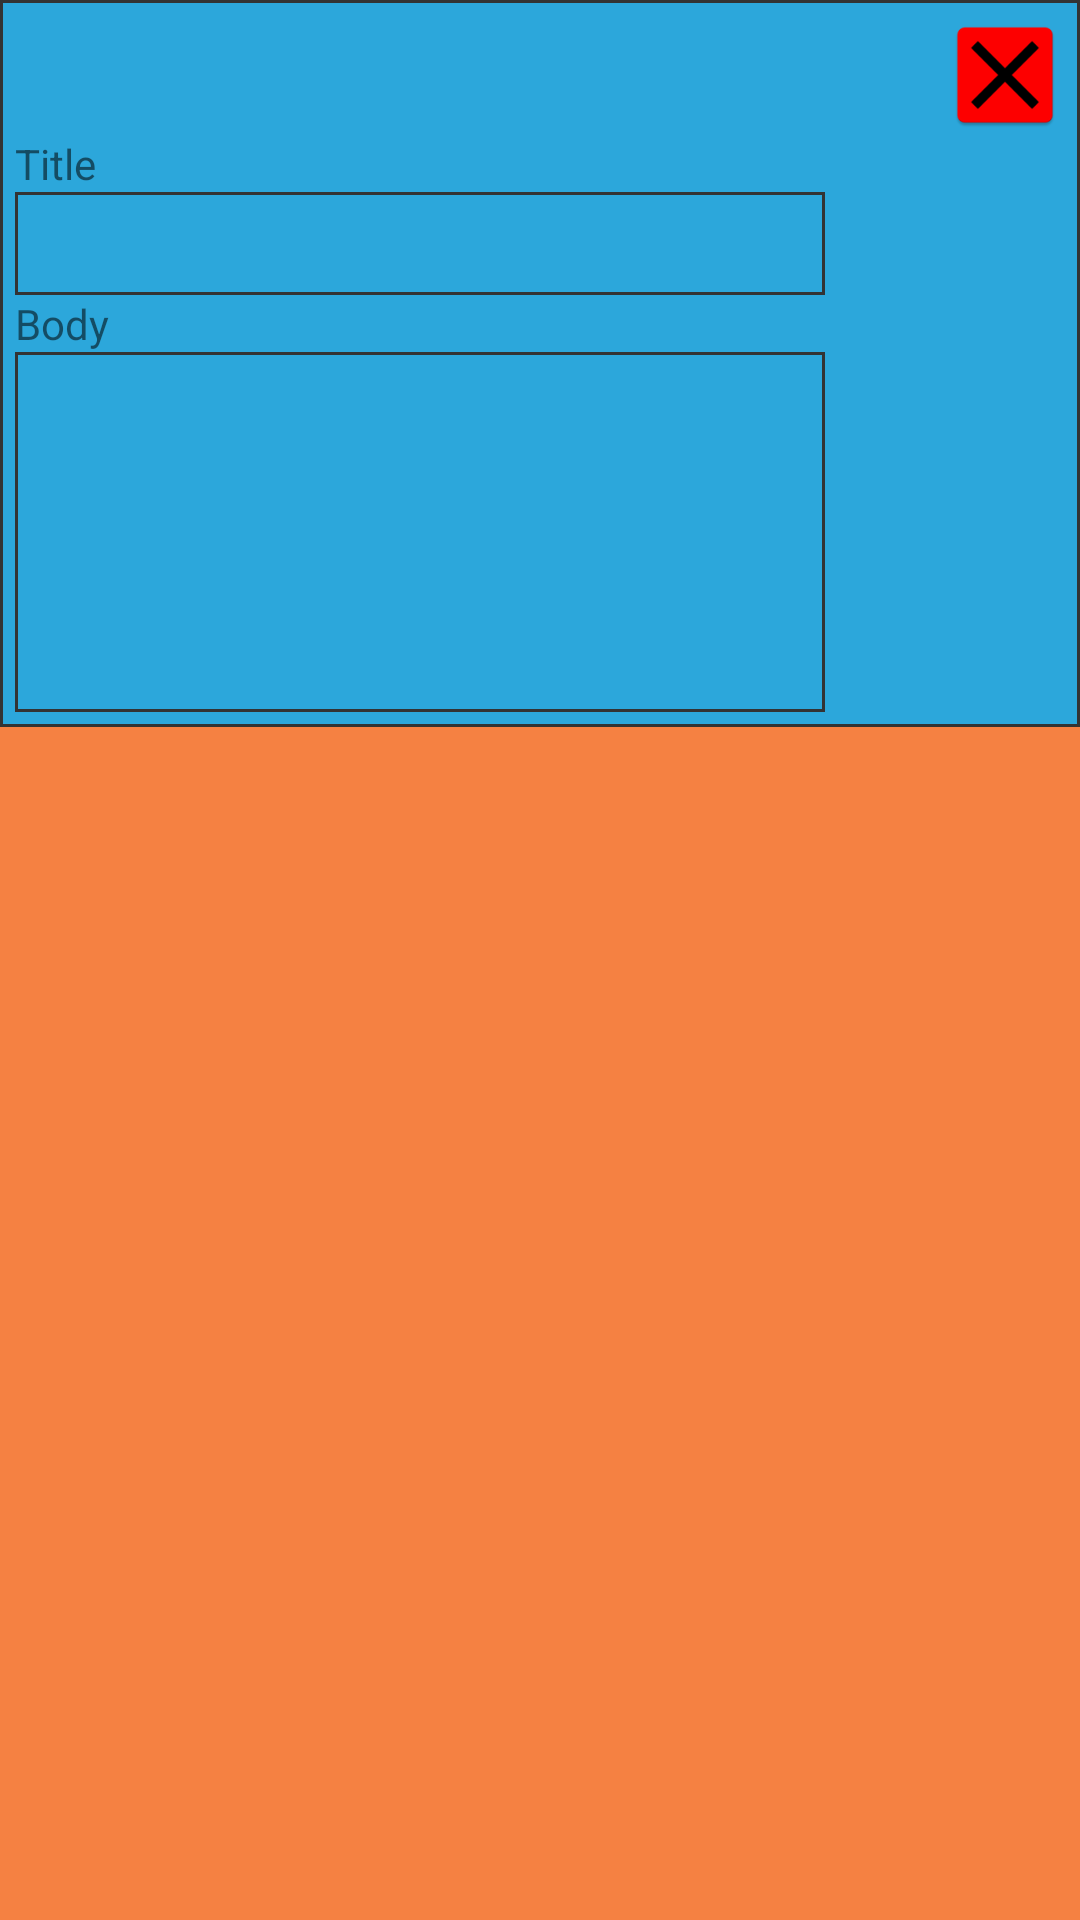

Named icons in this screenshot (1080px x 1920px) and their centers, point (x, y):
close: point (1005, 76)
